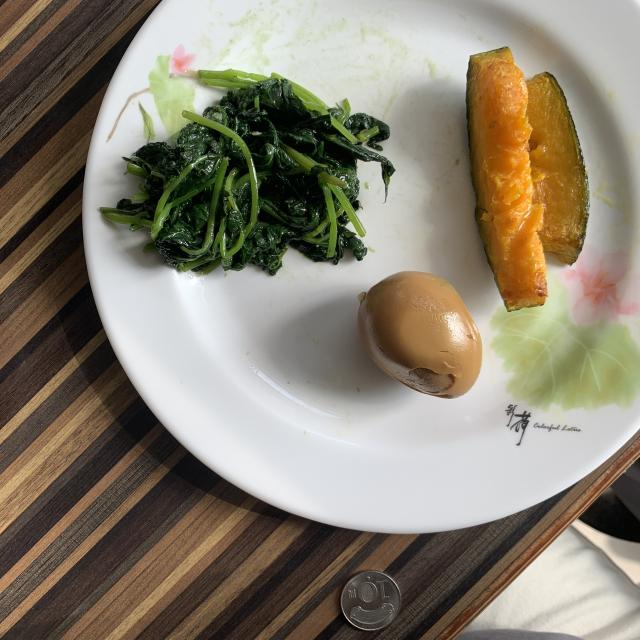coin: (341, 571, 401, 630)
pumpkin: (466, 48, 589, 311)
soy egg: (358, 271, 482, 399)
sweet potato leaves: (100, 71, 395, 275)
